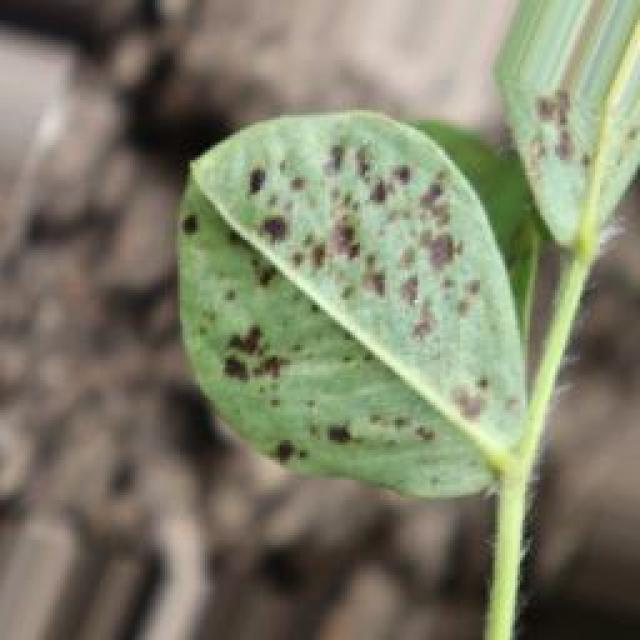Whitefly: (139, 22, 630, 554)
